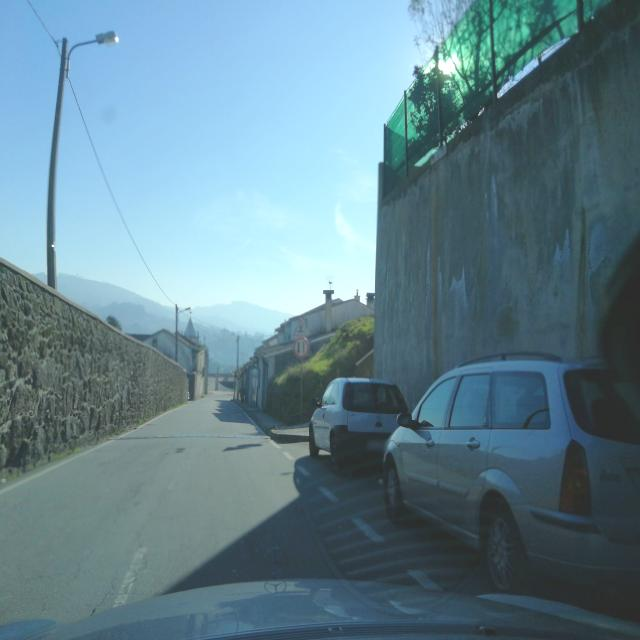car: (381, 349, 640, 607), (307, 377, 410, 472)
